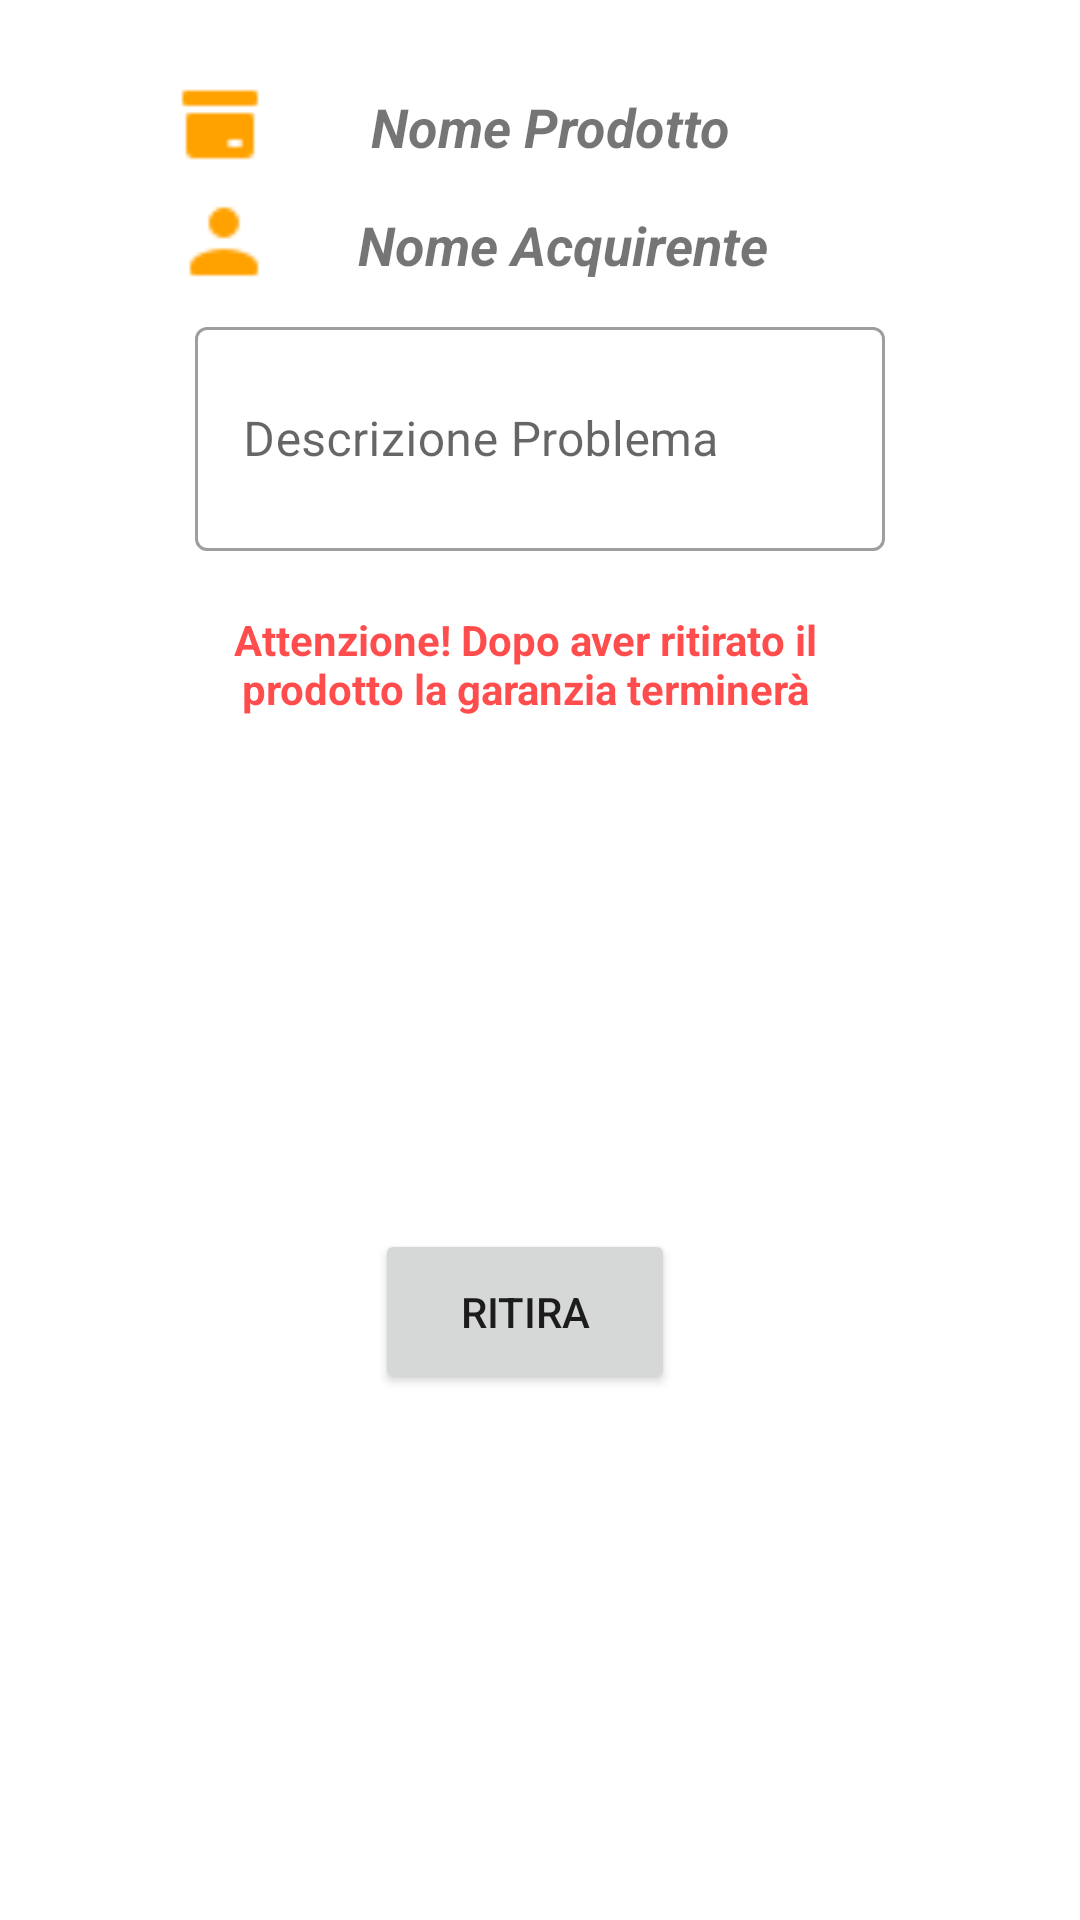

Where to tap for icons on this 1080x1920 app screen, as (x=x, y=y):
icona utente: (x=224, y=241)
